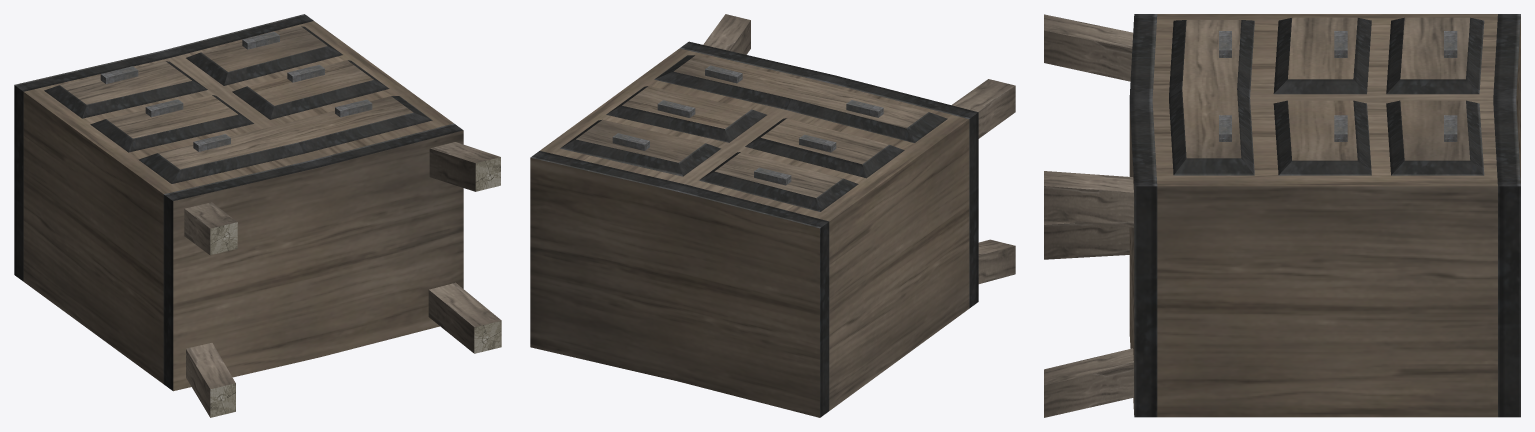
File: Dresser_C.fbx
3 views of the same model, side by side, from view 1: azimuth 30°, elevation 25°; view 2: azimuth 150°, elevation 25°; view 3: azimuth 270°, elevation 25° (orthographic). The views are drawn at different scales.
Visible parts, largest first — view 1: Dresser_C; view 2: Dresser_C; view 3: Dresser_C.
Part boxes in pixels (x1=…): Dresser_C: x1=14, y1=14, x2=501, y2=417; Dresser_C: x1=530, y1=14, x2=1015, y2=417; Dresser_C: x1=1044, y1=14, x2=1520, y2=417.
Size of the model in its own units: 1.86 by 1.25 by 2.17.
